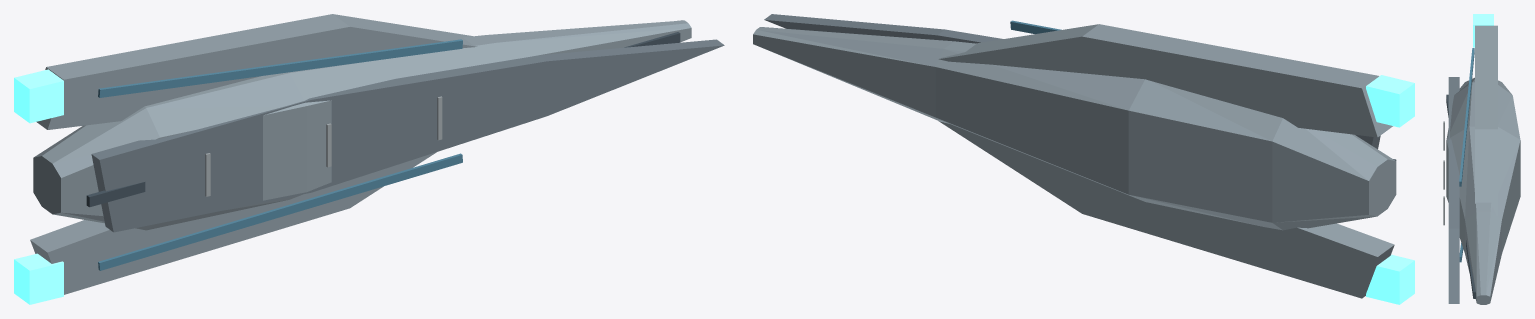
The model's file is alliance-cruiser.glb.
3 views of the same model, side by side, from view 1: azimuth 30°, elevation 25°; view 2: azimuth 150°, elevation 25°; view 3: azimuth 270°, elevation 25° (orthographic). The views are drawn at different scales.
Visible parts, largest first — view 1: Hull and platework, Engines and emitters; view 2: Hull and platework, Engines and emitters; view 3: Hull and platework, Engines and emitters.
Part boxes in pixels (x1,y1,x2,y2): Hull and platework: (30,14,724,294); Engines and emitters: (14,69,63,304); Hull and platework: (753,14,1396,298); Engines and emitters: (1366,75,1414,304); Hull and platework: (1443,25,1520,304); Engines and emitters: (1473,14,1493,47).
Bounding box in the file's own units: 3.35 × 1.02 × 0.4995.
